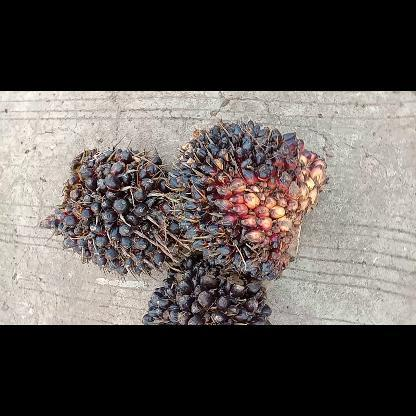TBS mentah: (166, 117, 332, 281), (38, 144, 186, 280), (139, 256, 273, 324)
